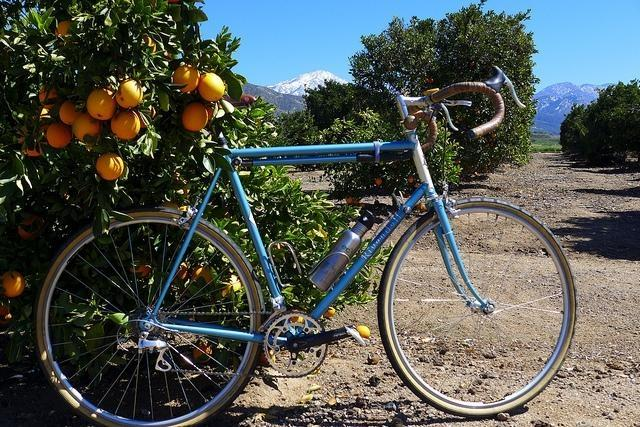bicycle: (31, 59, 575, 422)
